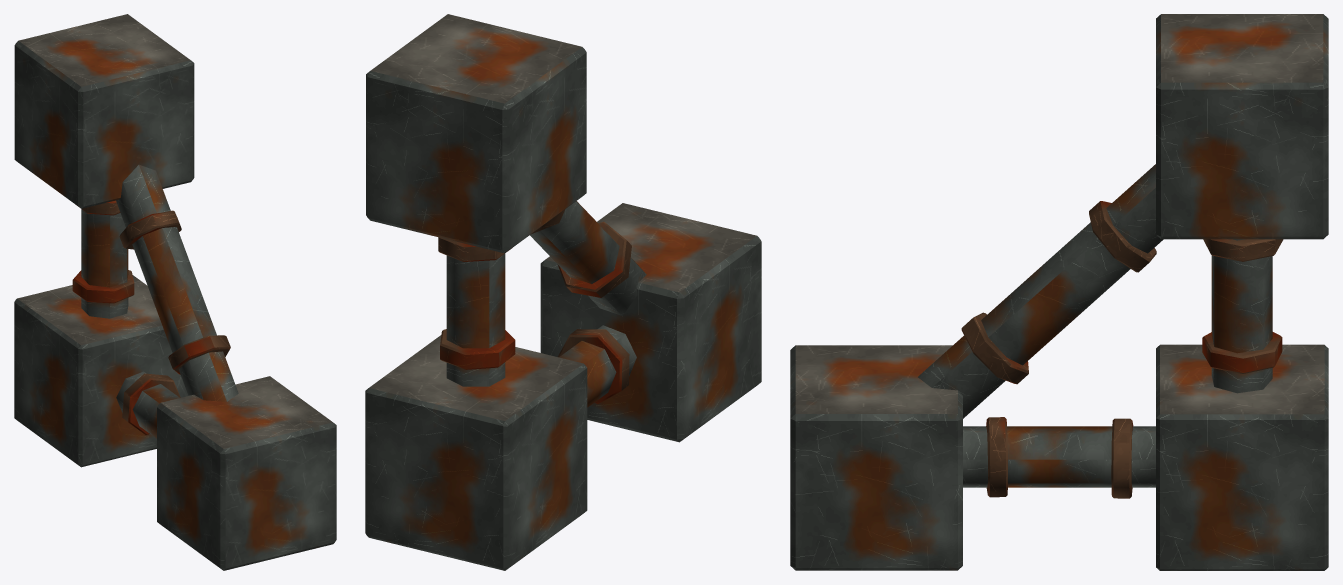
The model's file is R4C_STRUT_RAMP_LOD1.glb.
3 renders of one model, left to right at view 1: azimuth 30°, elevation 25°; view 2: azimuth 150°, elevation 25°; view 3: azimuth 270°, elevation 25°, orthographic. The views are drawn at different scales.
Parts seen in each view (by area): view 1: R4C_STRUT_RAMP_LOD1; view 2: R4C_STRUT_RAMP_LOD1; view 3: R4C_STRUT_RAMP_LOD1.
Boxes of the visible parts, bbox=[...] form: R4C_STRUT_RAMP_LOD1: bbox=[14, 14, 336, 570]; R4C_STRUT_RAMP_LOD1: bbox=[365, 14, 761, 570]; R4C_STRUT_RAMP_LOD1: bbox=[790, 14, 1328, 570].
Bounding box in the file's own units: 0.52 × 1.62 × 1.62.
3 materials, 3 textured.
